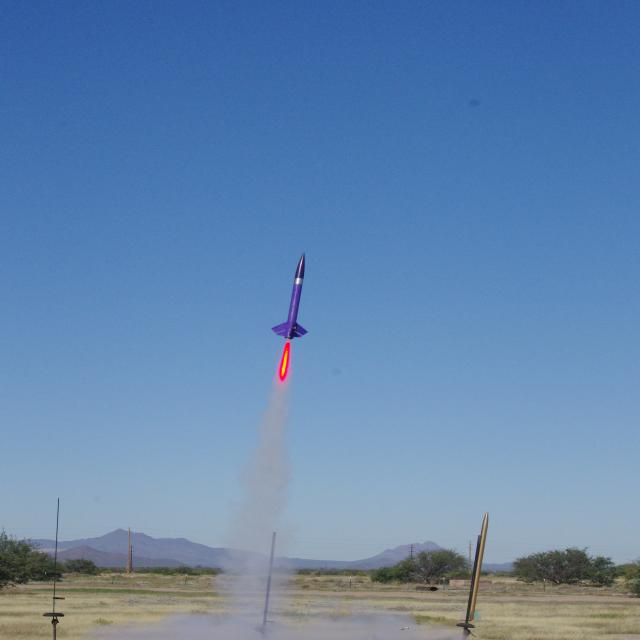Rocket: (267, 250, 313, 341), (460, 509, 490, 622)
